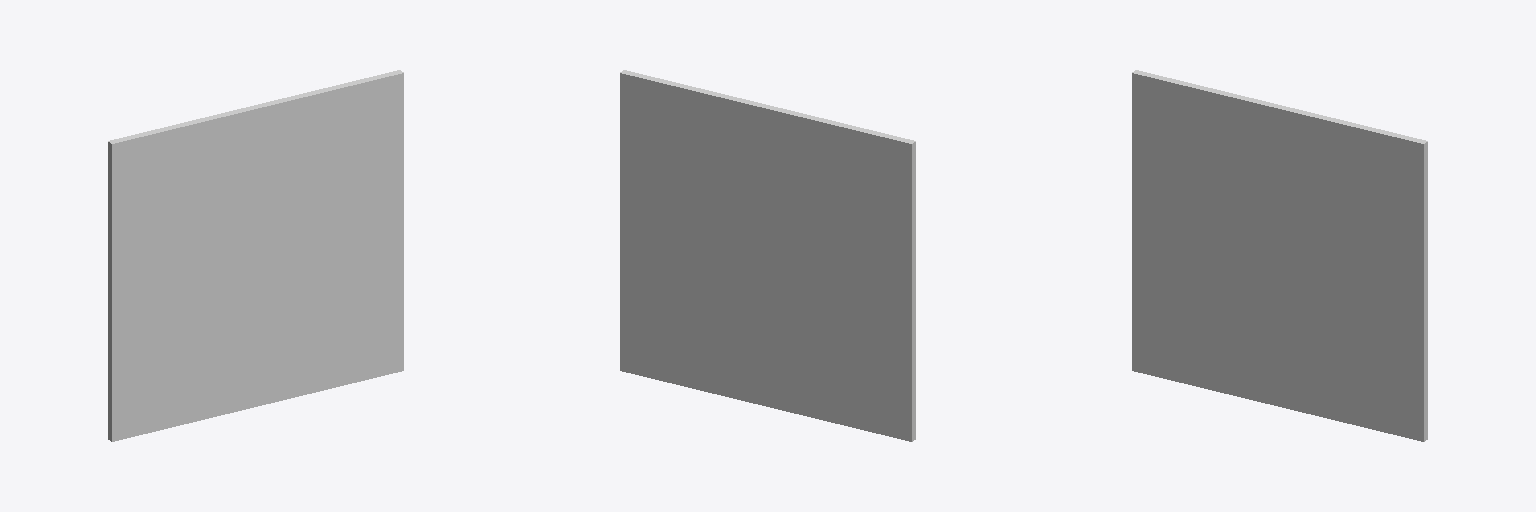
3 views of the same model, side by side, from view 1: azimuth 30°, elevation 25°; view 2: azimuth 150°, elevation 25°; view 3: azimuth 330°, elevation 25° (orthographic).
Visible parts, largest first — view 1: object 1; view 2: object 1; view 3: object 1.
Boxes of the visible parts, x1=… form: object 1: x1=108, y1=70, x2=403, y2=441; object 1: x1=620, y1=70, x2=915, y2=441; object 1: x1=1132, y1=70, x2=1427, y2=441.
Bounding box in the file's own units: 4 × 3.9 × 0.1.
1 materials, 1 textured.